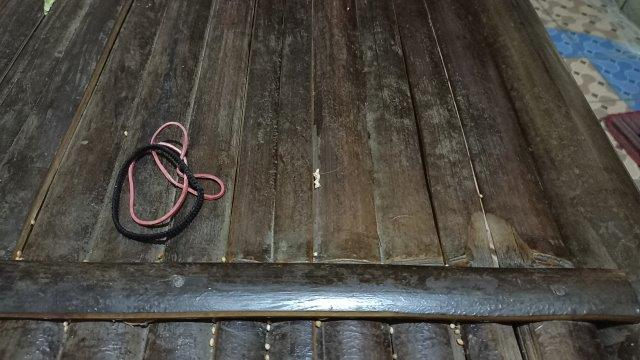karet: (111, 122, 225, 240)
